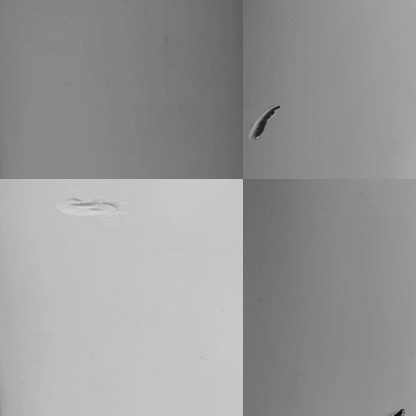kongdong: (249, 101, 284, 140), (391, 408, 407, 416)
sunshang: (53, 194, 122, 221)
